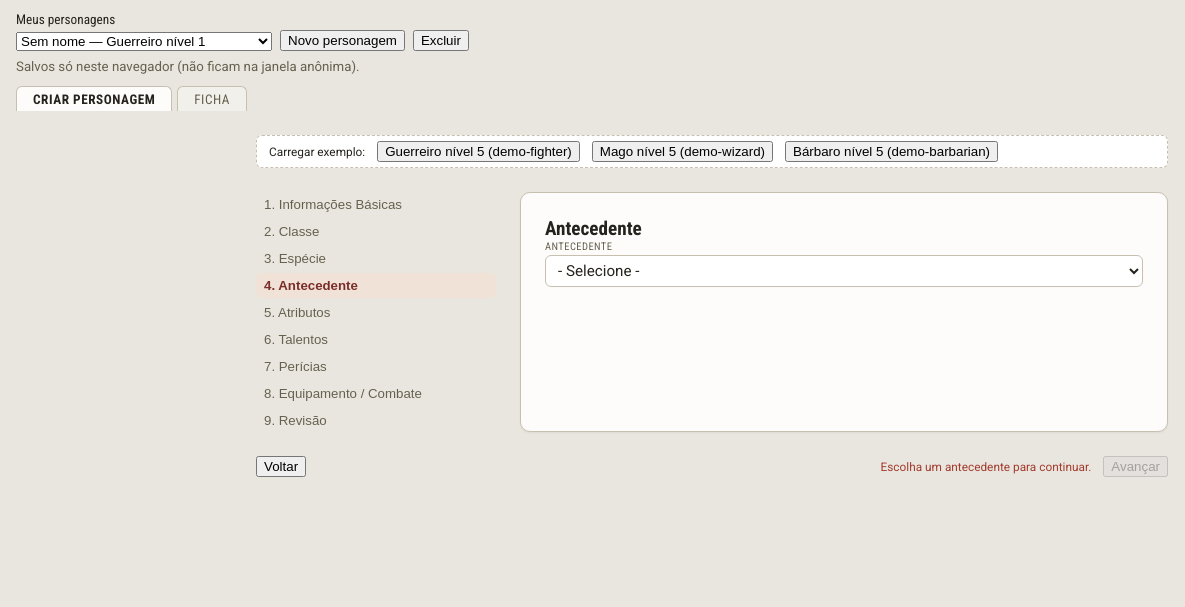
Scenario: BuilderWizard — Talento de Origem do Humano (traço Versátil, fonte "ADICIONAR ESCOLHA DE TALENTO DE ORIGEM DO HUMANO NA ETAPA ESPÉCIE") › conflito com o Antecedente: aviso aparece nas DUAS etapas (Espécie e Antecedente), com atalho de volta para Espécie — nunca apaga a seleção do Humano silenciosa
The width and height of the screenshot is (1185, 607).
Select "Soldado" in the dropdown labelled "Antecedente": [844, 271] box [545,255,1143,287]
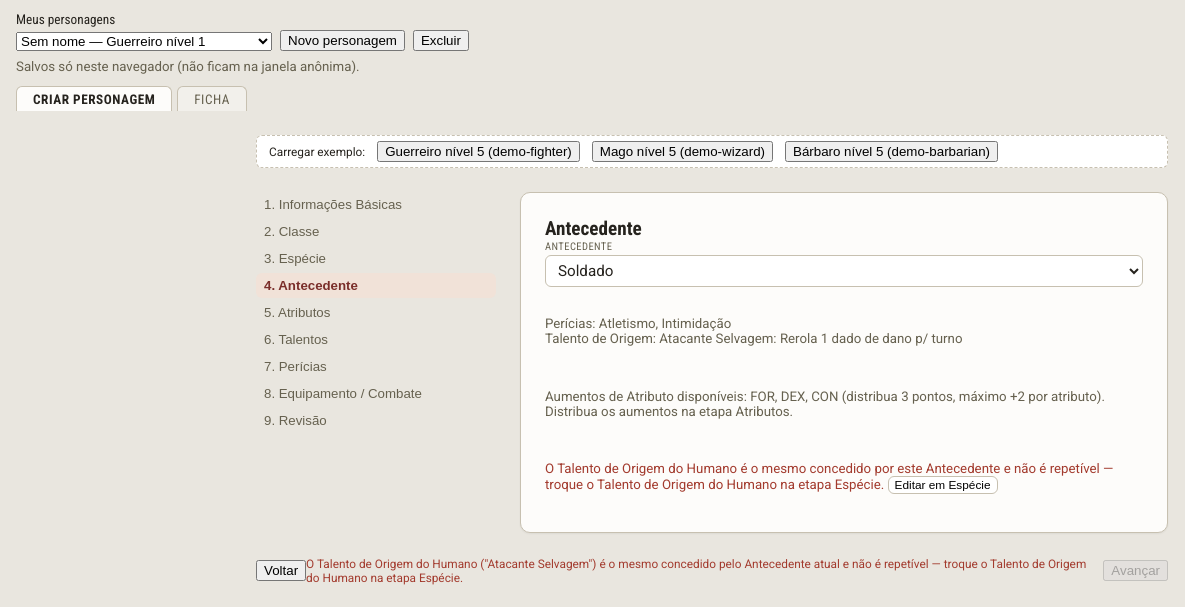
Expected: the button "Avançar" is disabled, [1103,560,1168,581]
Expected: the list item "mesmo concedido pelo Antecedente atual e não é repetível" is shown, [306,557,1086,585]
Expected: the button "Editar em Espécie" is shown
Click the button "Editar em Espécie": [943, 485] box [888,476,998,494]
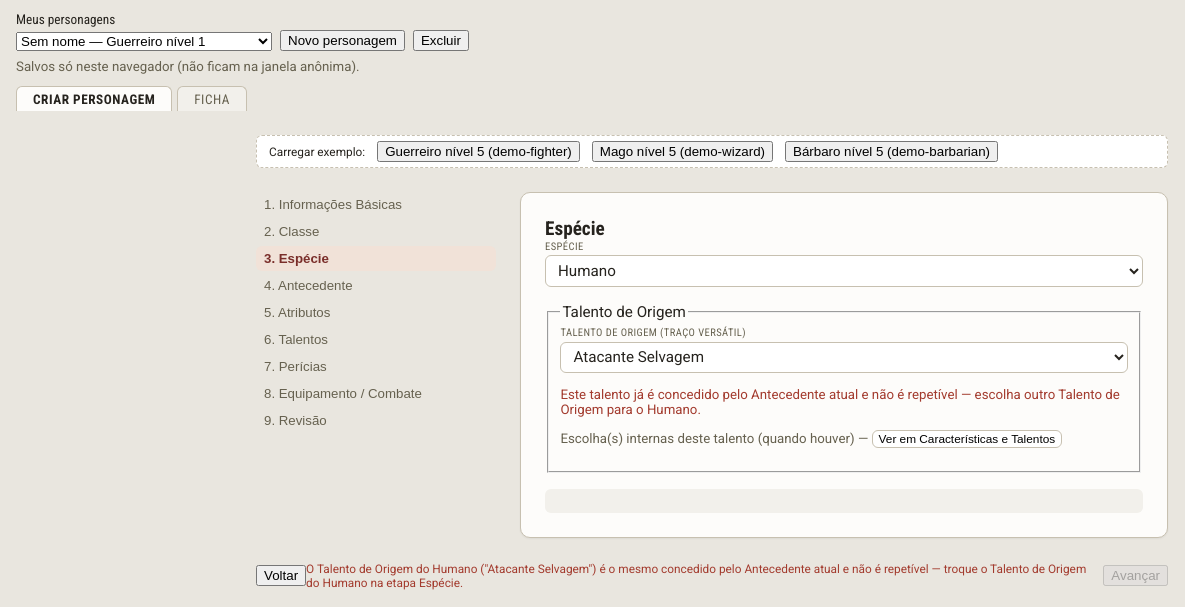
Expected: the list item "mesmo concedido pelo Antecedente atual e não é repetível" is shown, [306,562,1086,590]
Expected: the heading "Espécie" is shown, [545,217,605,240]
Trocar o talento do Humano resolve o conflito, sem tocar no Antecedente.
Select "Vigoroso" in the dropdown labelled "Talento de Origem (traço Versátil)": [844, 358] box [560,342,1128,373]
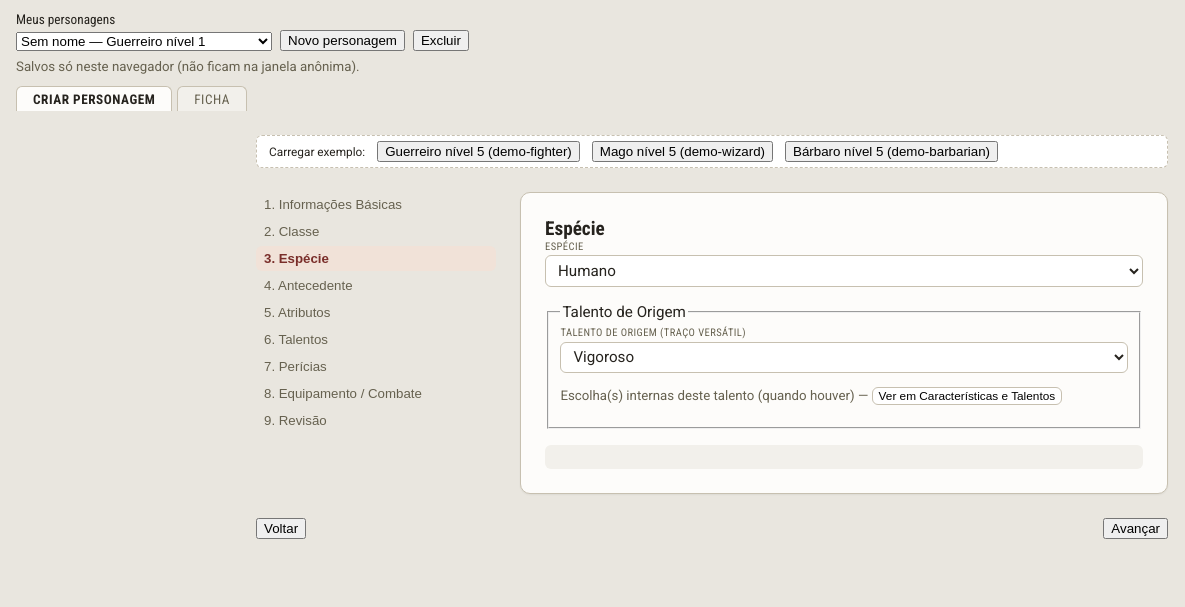
Expected: the list item "mesmo concedido pelo Antecedente atual e não é repetível" is gone
